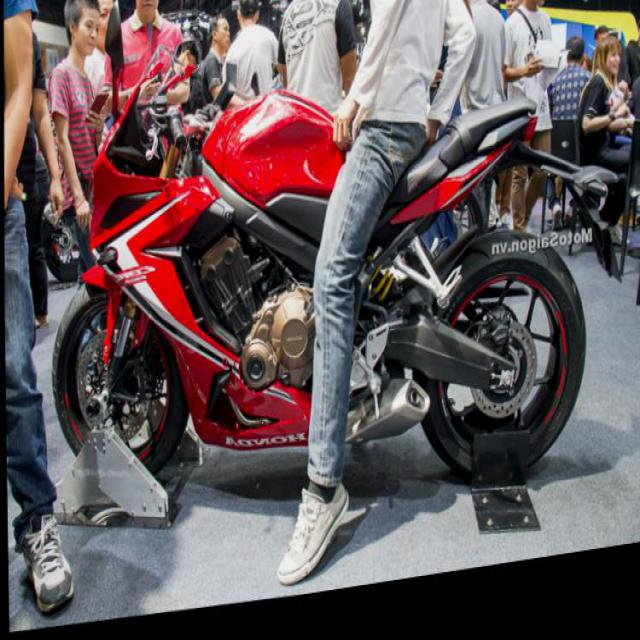CBR650R: (44, 16, 590, 559)
